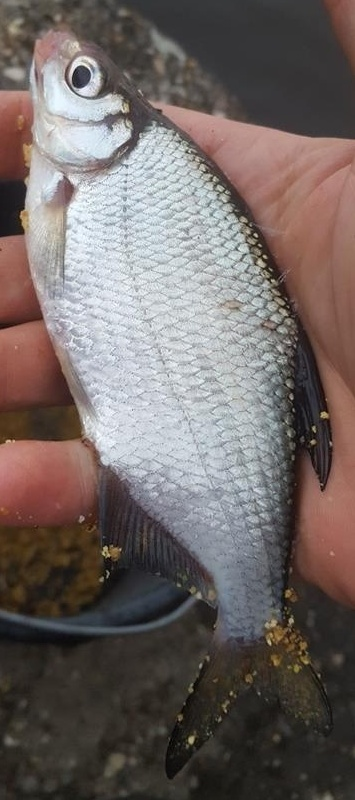Blicca bjoerkna: (20, 20, 335, 780)
